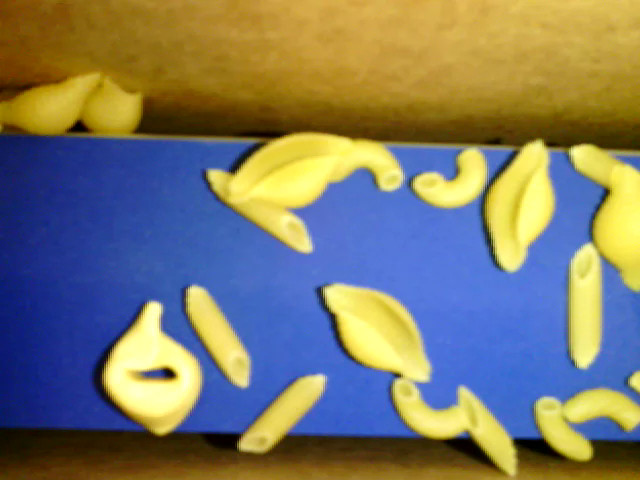elbow: (390, 377, 470, 441), (411, 147, 489, 210), (328, 138, 407, 193), (532, 395, 593, 464), (563, 386, 639, 431)
penne: (205, 164, 316, 258), (185, 283, 250, 388), (237, 373, 328, 448), (459, 387, 517, 478), (566, 237, 604, 369), (566, 138, 629, 190)
shell: (322, 277, 432, 385), (482, 137, 553, 274), (231, 126, 350, 206), (1, 67, 109, 136), (590, 160, 639, 299), (82, 77, 149, 133)
tortellini: (97, 299, 200, 441)
